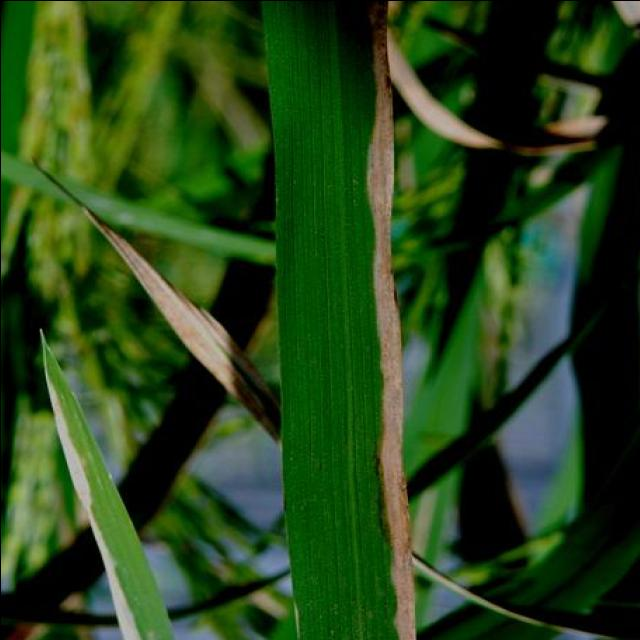Bacterial_Leaf_Blight: (359, 9, 417, 640)
